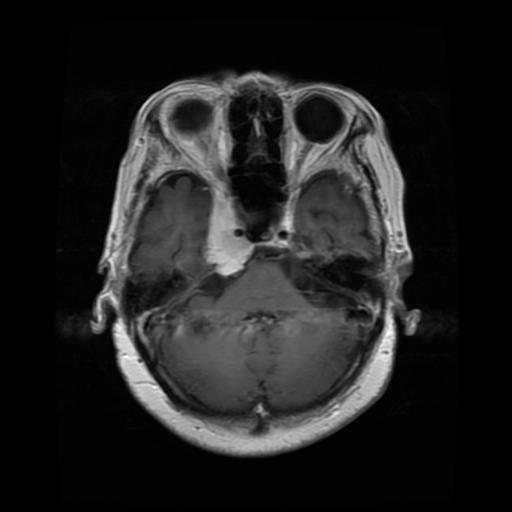Menigiomia_tumour: (206, 187, 254, 276)
